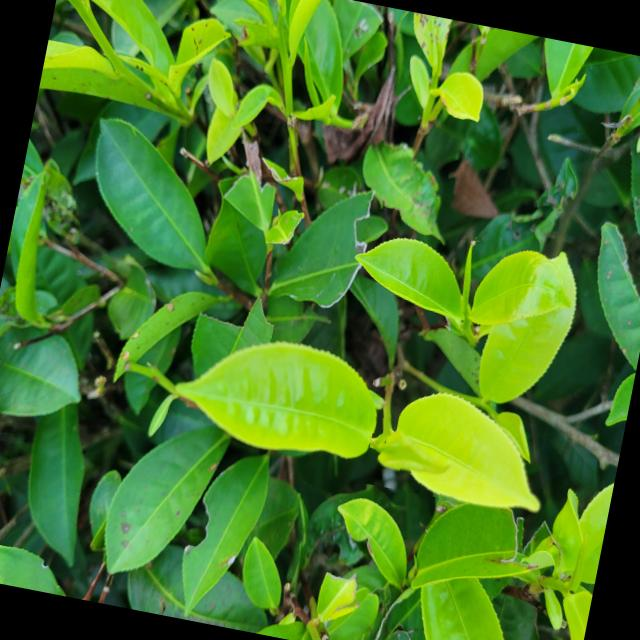Catagory A(1-2 days): (362, 413, 467, 501)
